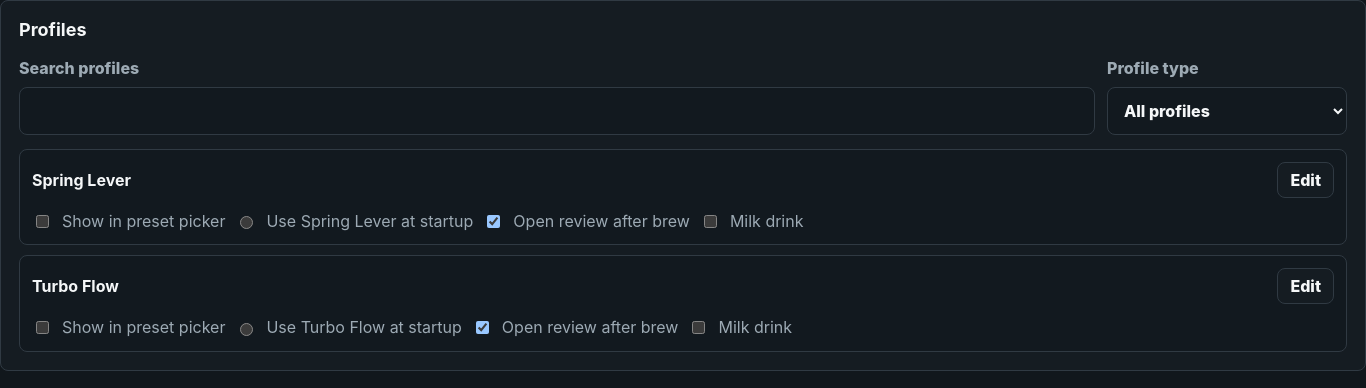
Test case: ProfilesPage › searches profiles and filters pressure based profiles
Type "spring" into the field labelled "Search profiles". click: {"x": 557, "y": 111}
box: left=19, top=87, right=1095, bottom=135
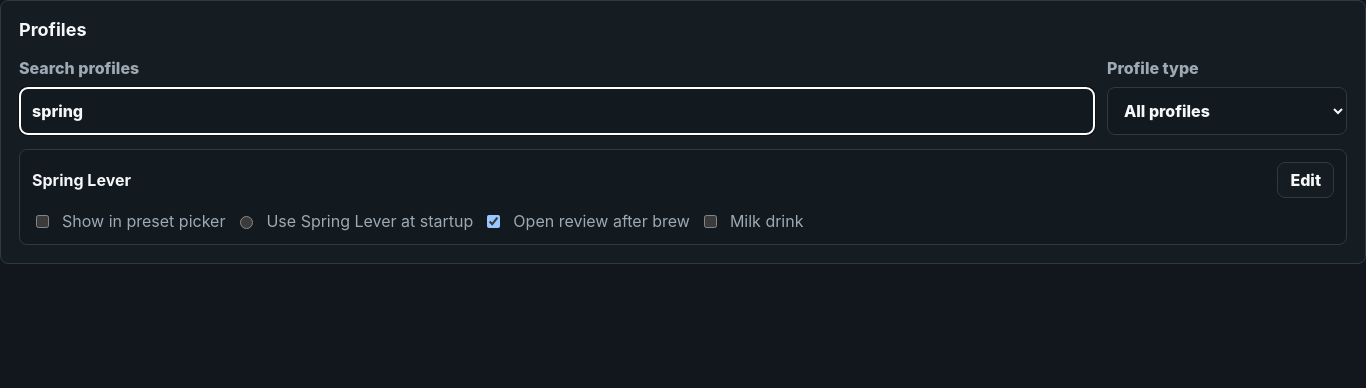
Expected: the text "Spring Lever" is shown, left=32, top=169, right=131, bottom=191
Now the text "Turbo Flow" is gone
Clear the field labelled "Search profiles". click: {"x": 557, "y": 111}
box: left=19, top=87, right=1095, bottom=135
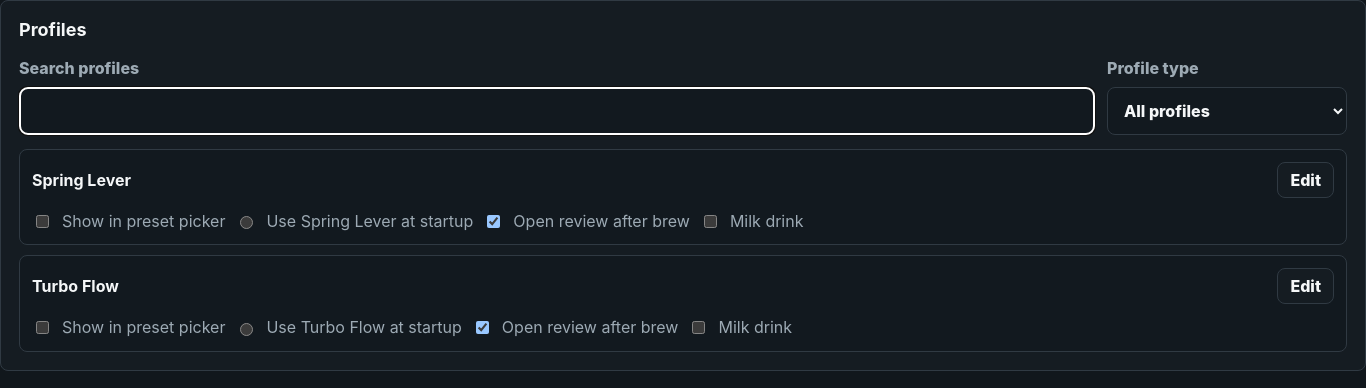
Select "Pressure based" in the dropdown labelled "Profile type". click: {"x": 1227, "y": 111}
box: left=1107, top=87, right=1347, bottom=135
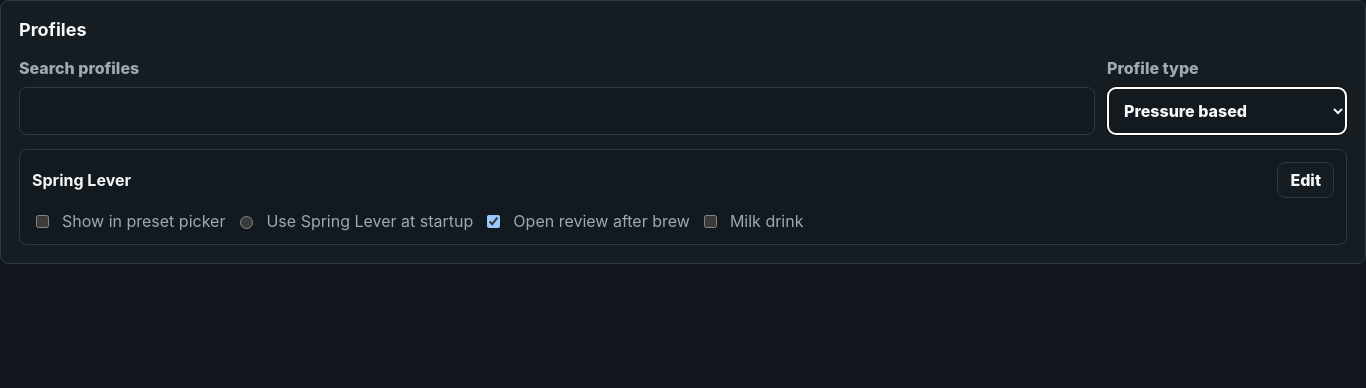
Expected: the text "Spring Lever" is shown, left=32, top=169, right=131, bottom=191
Now the text "Turbo Flow" is gone
